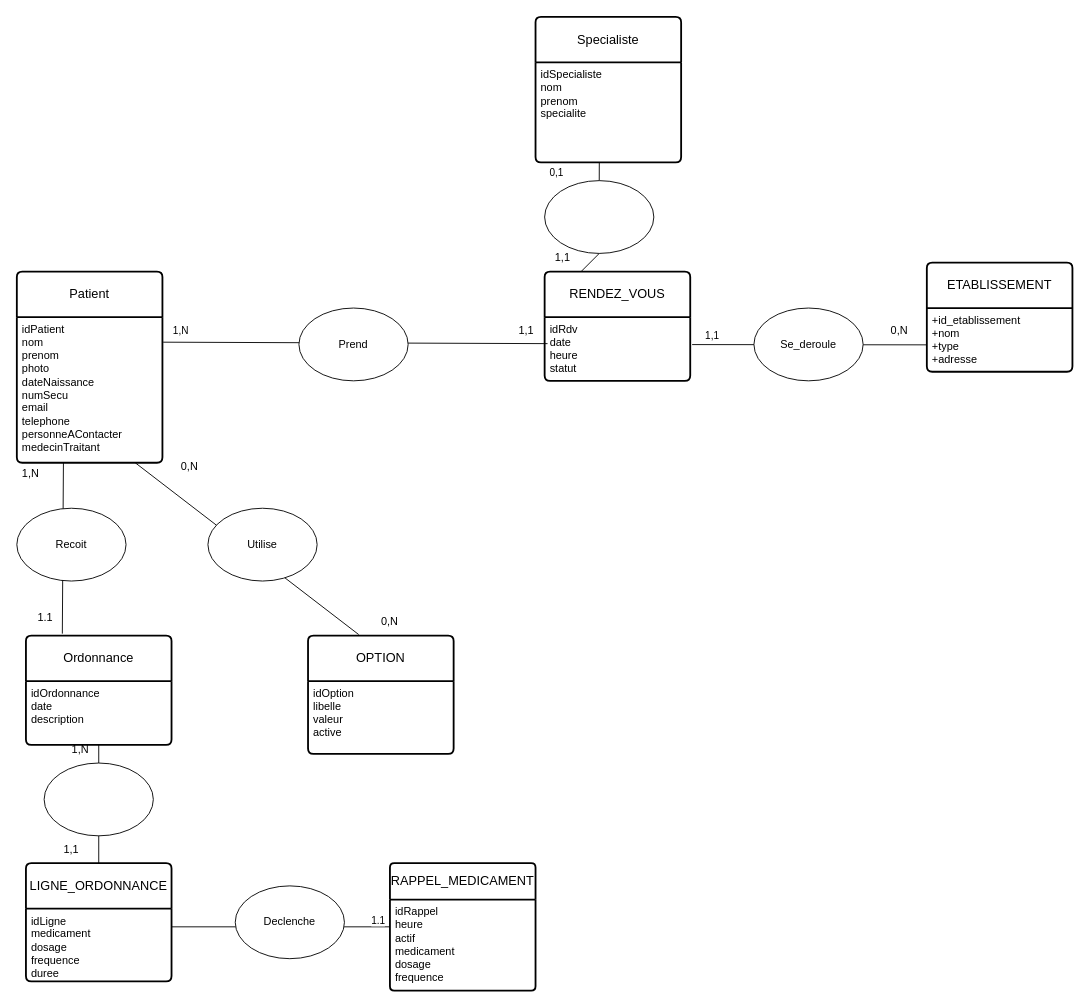
Image size: 1088x1006. Some labels were removed from this diagram. Each missing label, with the centre of its shape:
Consulte: the point at 599,216
Contient: the point at 98,799
